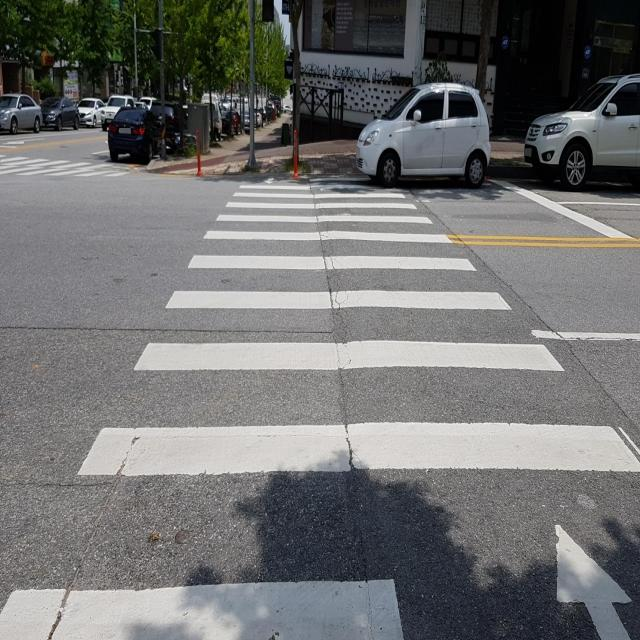횡단보도: (0, 176, 640, 640), (0, 150, 140, 176)
